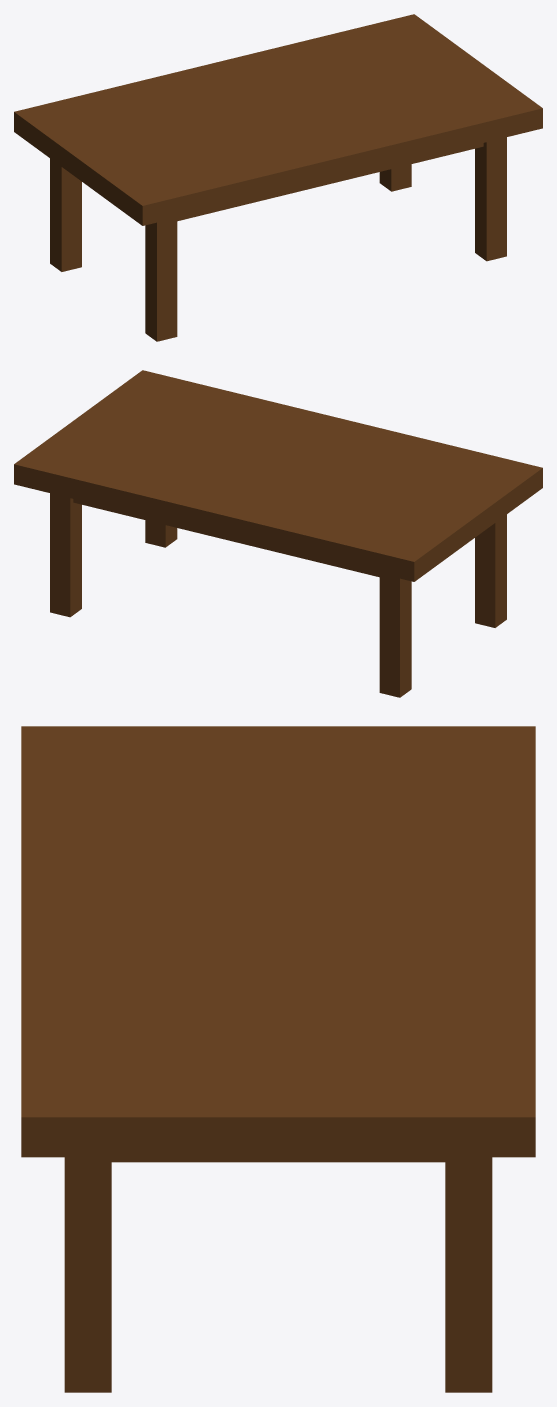
The model's file is table_export.fbx.
3 renders of one model, top to bottom at view 1: azimuth 30°, elevation 25°; view 2: azimuth 150°, elevation 25°; view 3: azimuth 270°, elevation 25°, orthographic. The views are drawn at different scales.
Parts seen in each view (by area): view 1: table_001; view 2: table_001; view 3: table_001.
Boxes of the visible parts, left/top/right/bottom form: table_001: left=14, top=14, right=542, bottom=341; table_001: left=14, top=370, right=542, bottom=697; table_001: left=21, top=726, right=535, bottom=1392.
Bounding box in the file's own units: 14.57 × 5.22 × 8.11.
